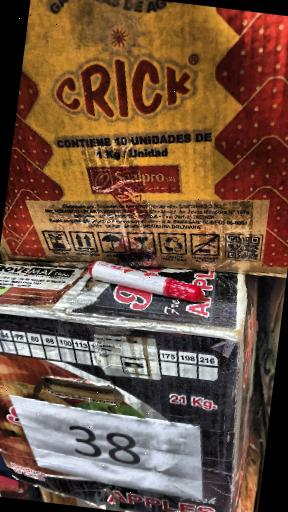marcador rojo: (89, 260, 202, 302)
